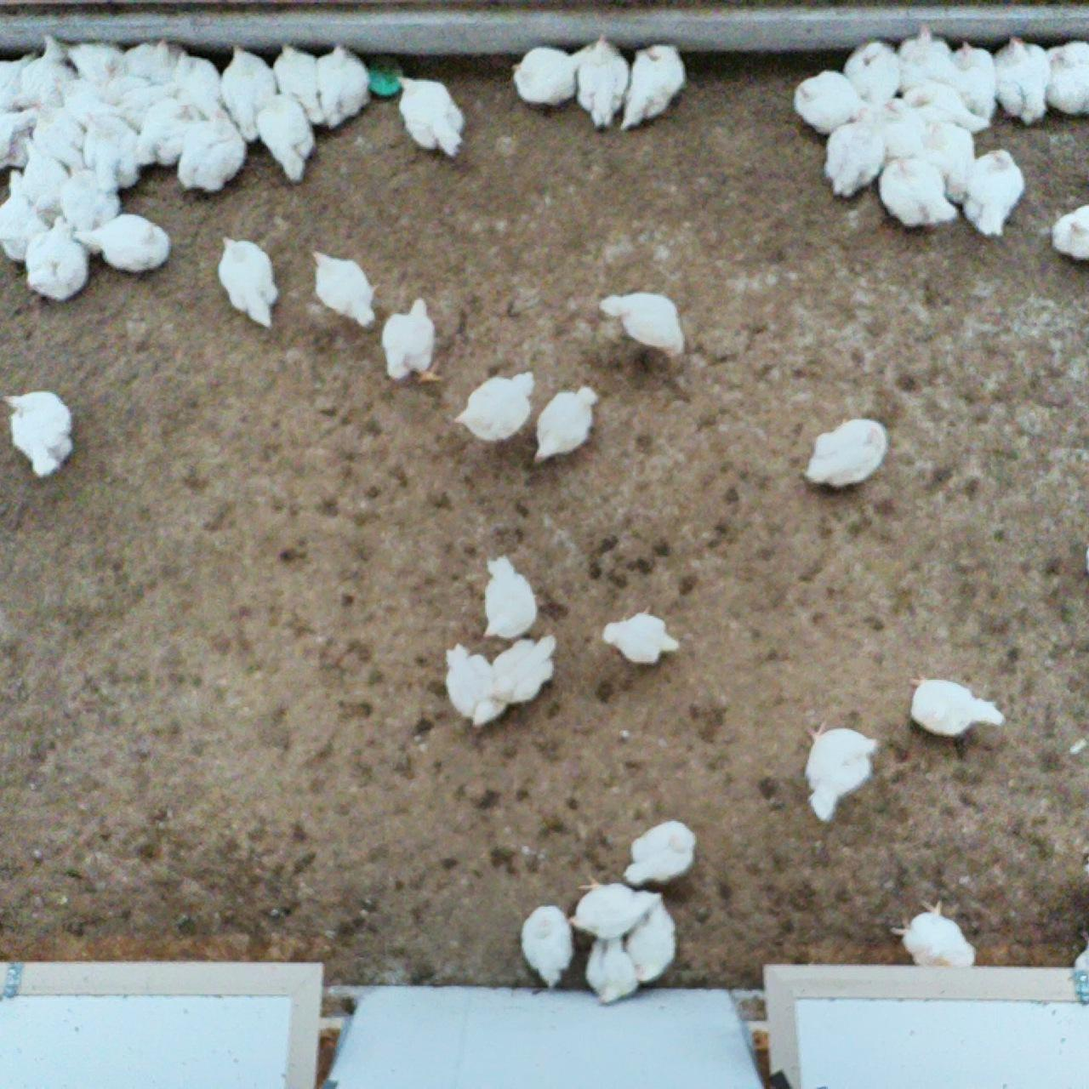chicken: (796, 713, 886, 825), (902, 663, 1012, 743), (473, 631, 559, 730), (798, 412, 895, 495), (884, 893, 979, 970), (450, 363, 537, 447), (595, 286, 689, 363), (0, 387, 76, 482), (251, 82, 318, 188), (175, 108, 249, 201), (214, 231, 280, 334), (392, 73, 469, 161), (878, 154, 961, 235), (618, 43, 690, 134), (563, 874, 663, 939), (24, 212, 93, 305), (597, 598, 681, 674), (476, 552, 544, 645), (964, 145, 1029, 242), (308, 248, 382, 333), (380, 295, 446, 389), (532, 383, 603, 470), (80, 211, 172, 278), (991, 32, 1055, 127), (620, 816, 700, 891), (512, 897, 575, 992), (577, 30, 634, 135), (220, 41, 277, 145), (507, 44, 587, 115), (441, 637, 499, 732), (818, 117, 885, 199), (623, 896, 682, 989), (7, 33, 73, 114), (790, 63, 866, 133), (894, 19, 954, 107), (908, 77, 996, 137), (271, 40, 328, 129), (315, 43, 371, 132), (84, 109, 147, 188), (168, 46, 228, 124), (57, 162, 121, 232), (581, 931, 641, 1005), (842, 33, 904, 104), (945, 38, 999, 119), (0, 166, 45, 263), (920, 119, 979, 192), (136, 92, 192, 168), (1042, 32, 1089, 120), (20, 136, 72, 215), (871, 95, 934, 157), (29, 100, 85, 169), (55, 75, 115, 127), (124, 36, 186, 86), (63, 39, 131, 83), (1046, 199, 1089, 266), (110, 80, 181, 116), (0, 100, 40, 161), (0, 47, 38, 102)
